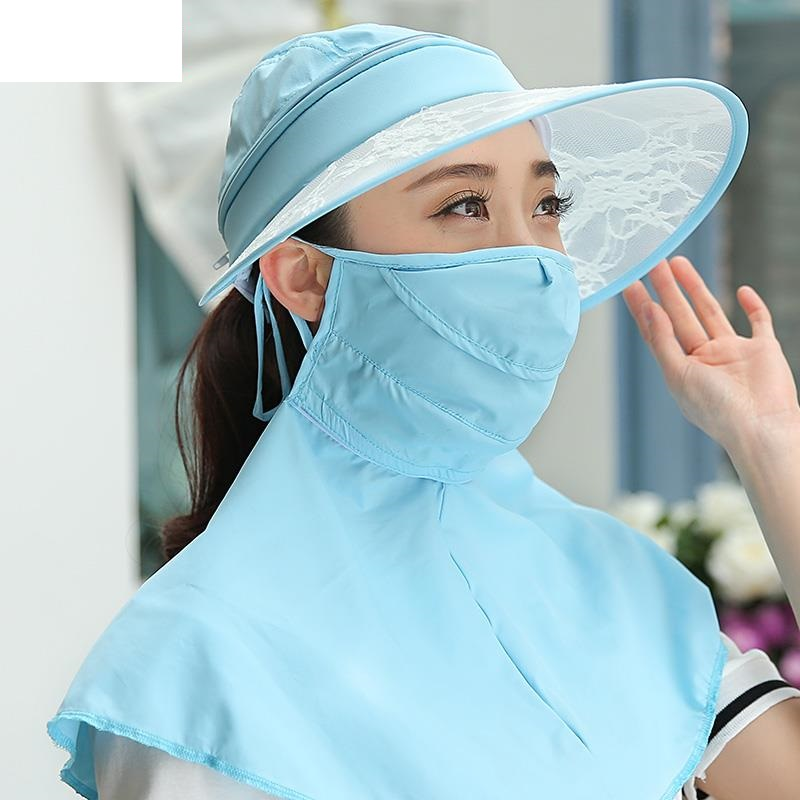face_mask: (335, 155, 580, 451)
